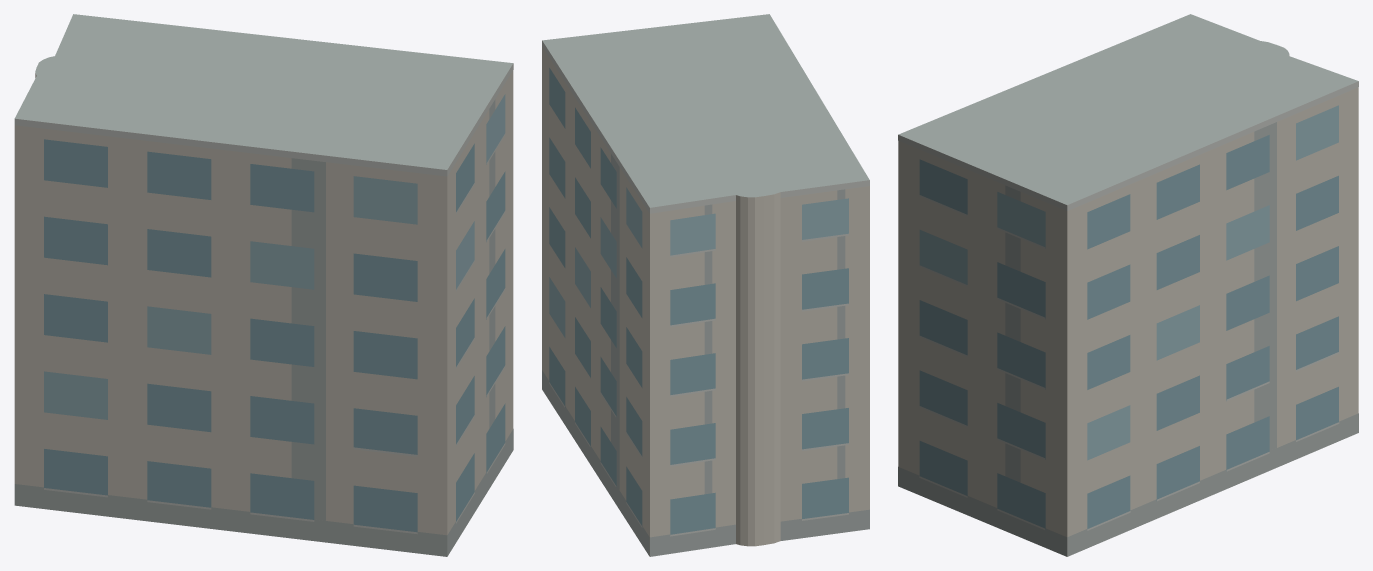
The model's file is survey-upis-32961092.glb.
3 views of the same model, side by side, from view 1: azimuth 30°, elevation 25°; view 2: azimuth 150°, elevation 25°; view 3: azimuth 270°, elevation 25° (orthographic). The views are drawn at different scales.
Parts seen in each view (by area): view 1: survey-upis-32961092.tmp; view 2: survey-upis-32961092.tmp; view 3: survey-upis-32961092.tmp.
Boxes of the visible parts, x1,y1,x2,y2 form: survey-upis-32961092.tmp: (14,14,513,556); survey-upis-32961092.tmp: (542,14,869,556); survey-upis-32961092.tmp: (898,14,1358,556).
Size of the model in its own units: 16.8 by 14.4 by 17.1.
